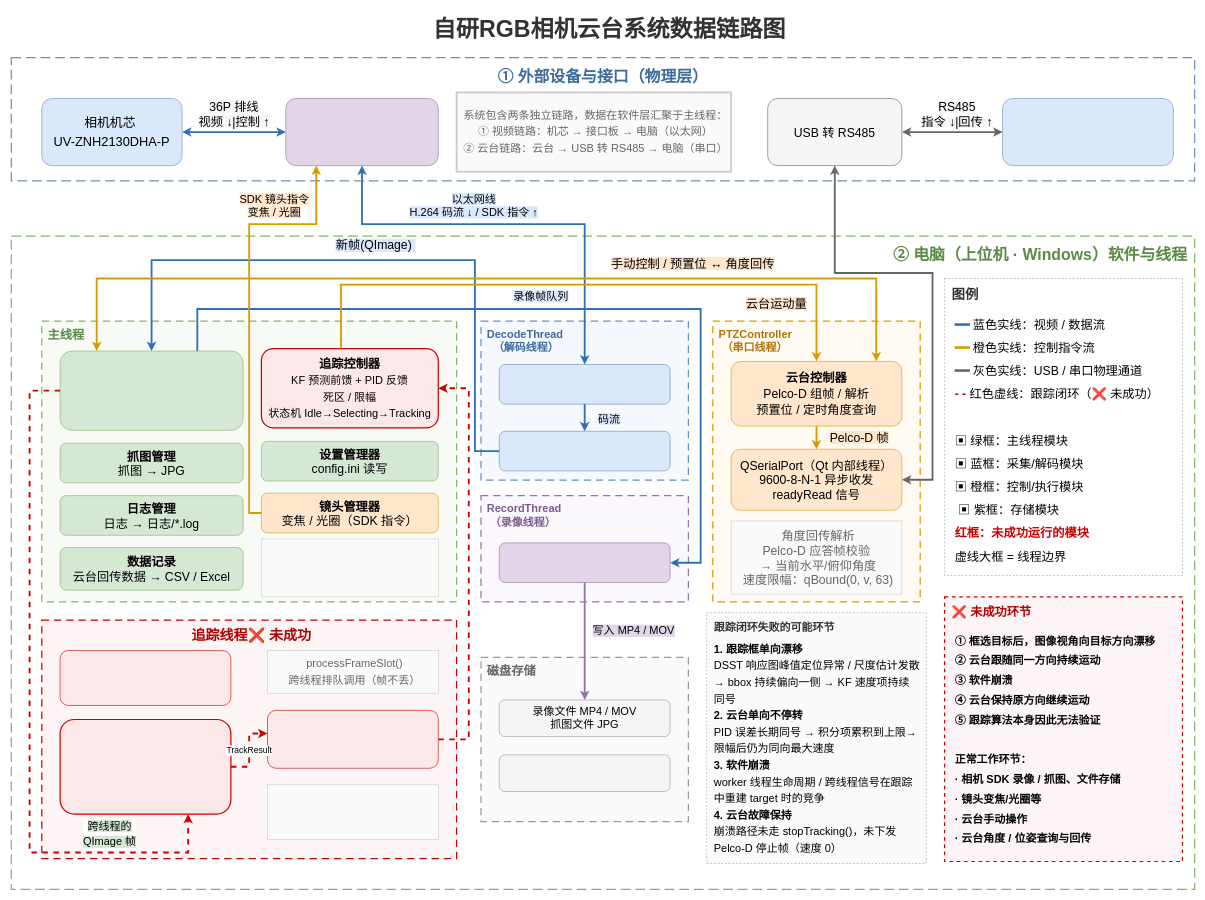
This 1205x900 diagram has some shape labels left out. Each missing label, with the centre of its shape:
"fftutils FFT / Hanning 窗 / 复数运算" belongs at point (145, 677).
"MainWindow（UI 中枢） 控件绑定 / 帧分发 视频显示(QImage → QLabel)" belongs at point (151, 390).
"ObjectTracker DSST： FHOG 特征 + 33 尺度相关滤波 KF：位置 + 速度 PSR 置信度 / 遮挡重检测" belongs at point (145, 766).
"RecordThread FFmpeg 编码 → 写入 MP4" belongs at point (584, 562).
"TrackResult（跨线程结构体） bbox / confidence(PSR) kfX, kfY, kfVx, kfVy" belongs at point (352, 739).
"主线程同时承担： 视频显示、PTZ 指令下发、 伺服计算、数据落地。" belongs at point (349, 567).
"云台 YZ-BY025W Pelco-D 协议 电机 + 编码器" belongs at point (1087, 132).
"接口板（转换板） 36P 机芯接口 RJ45 网络接口" belongs at point (361, 132).
"数据记录 CSV / Excel 运行日志 日志/*.log" belongs at point (584, 772).
"线程销毁顺序： disconnect → quit → wait → delete tracker → delete thread" belongs at point (352, 812).
"视频解码器 H.264 解码 → YUV420 → QImage" belongs at point (584, 451).
"设备管理器 SDK 登录 / 取流 / 视频流分发" belongs at point (584, 384).
